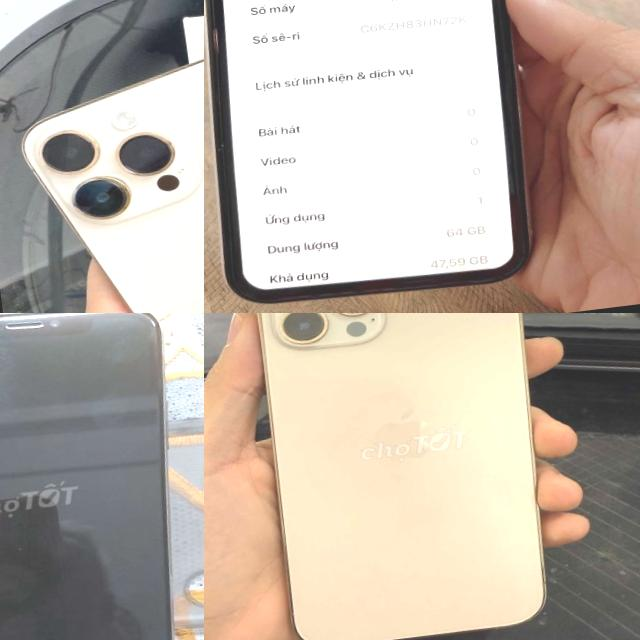gen_11: (204, 0, 552, 313)
gen_12_13: (243, 313, 570, 640)
gen_14: (6, 23, 204, 313)
gen_x_xs: (0, 313, 204, 640)
